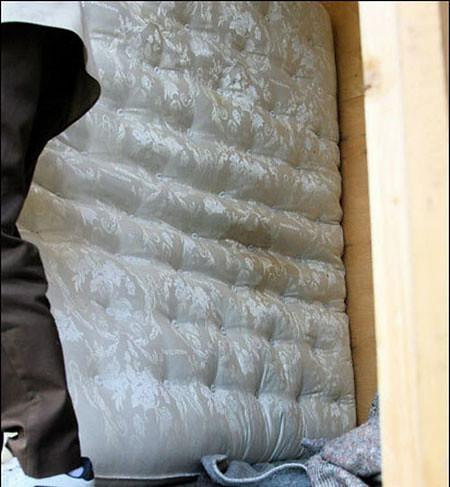Bed-Mattress: (8, 2, 356, 480)
